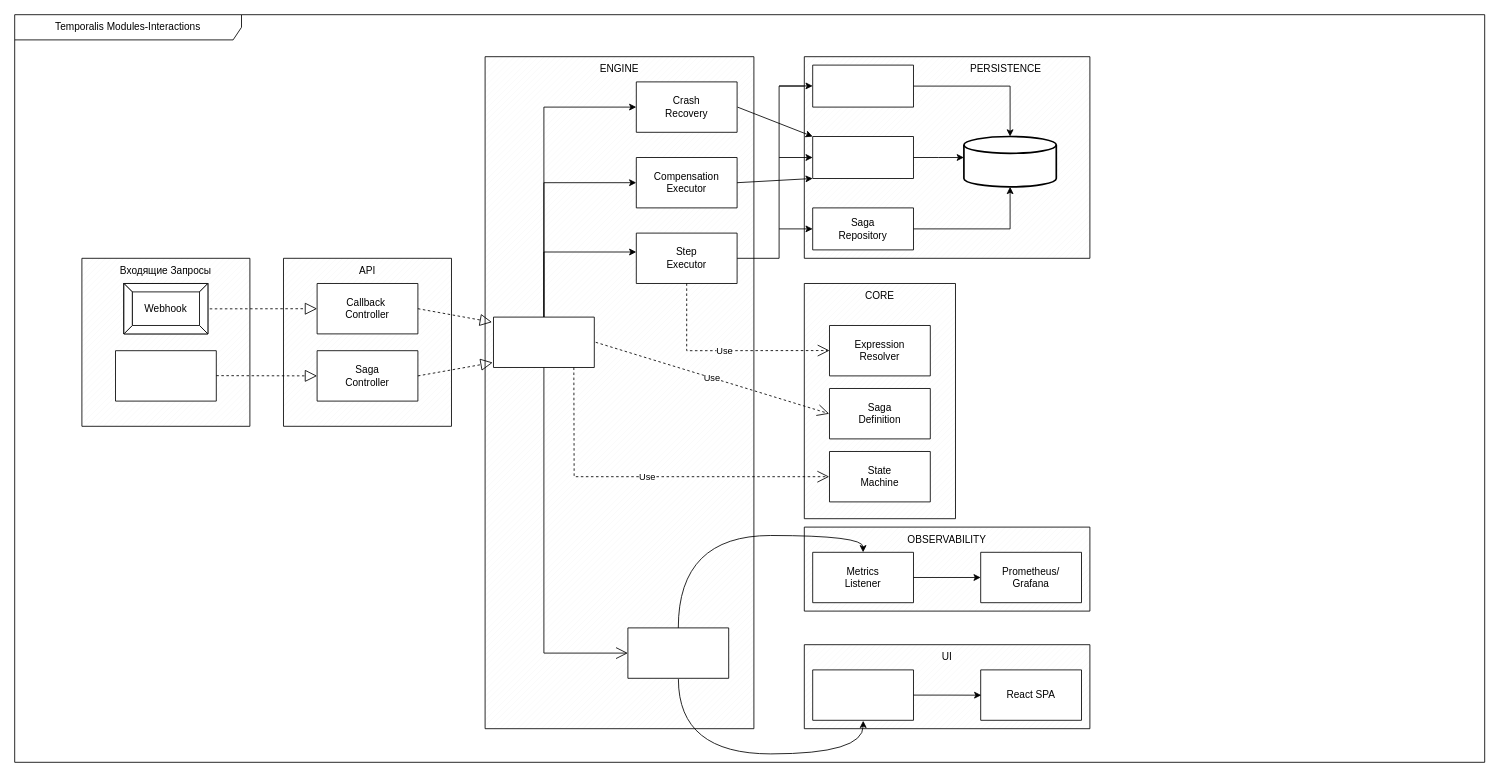
Some shapes in this 1499 by 777 pixel diagram are drawn without their labels. The centre of each missing label's shape, as x and y in pixels:
"Event Publisher" goes at (x=678, y=652).
"HTTP Request" goes at (x=165, y=375).
"PostgreSQL" goes at (x=1010, y=161).
"Saga Engine" goes at (x=543, y=342).
"Saga Event Repository" goes at (x=863, y=85).
"Saga Step Repository" goes at (x=863, y=157).
"SSE Service" goes at (x=863, y=694).
